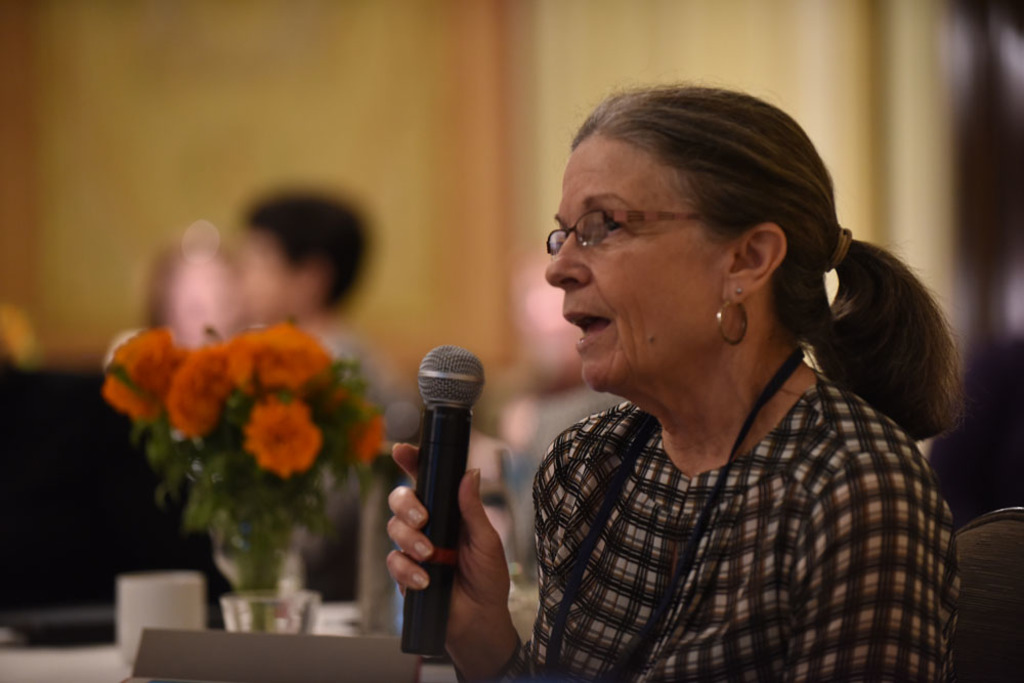Human_hand: (374, 423, 509, 656)
